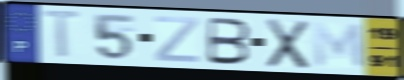5: (92, 12, 138, 61)
B: (204, 16, 253, 67)
M: (311, 20, 369, 71)
T: (39, 8, 87, 61)
X: (265, 16, 312, 71)
Z: (152, 15, 201, 65)
